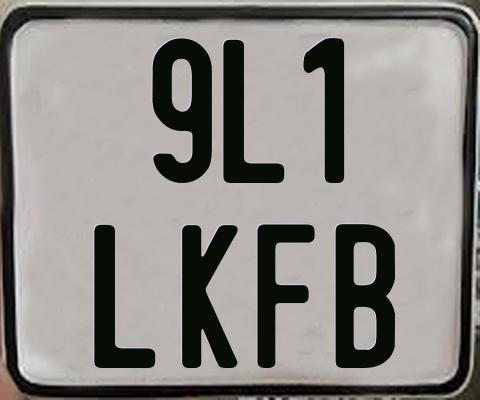1: (302, 38, 346, 186)
9: (150, 38, 215, 184)
B: (333, 222, 396, 369)
F: (255, 221, 314, 370)
K: (181, 223, 239, 371)
L: (220, 40, 287, 184), (94, 224, 156, 367)
